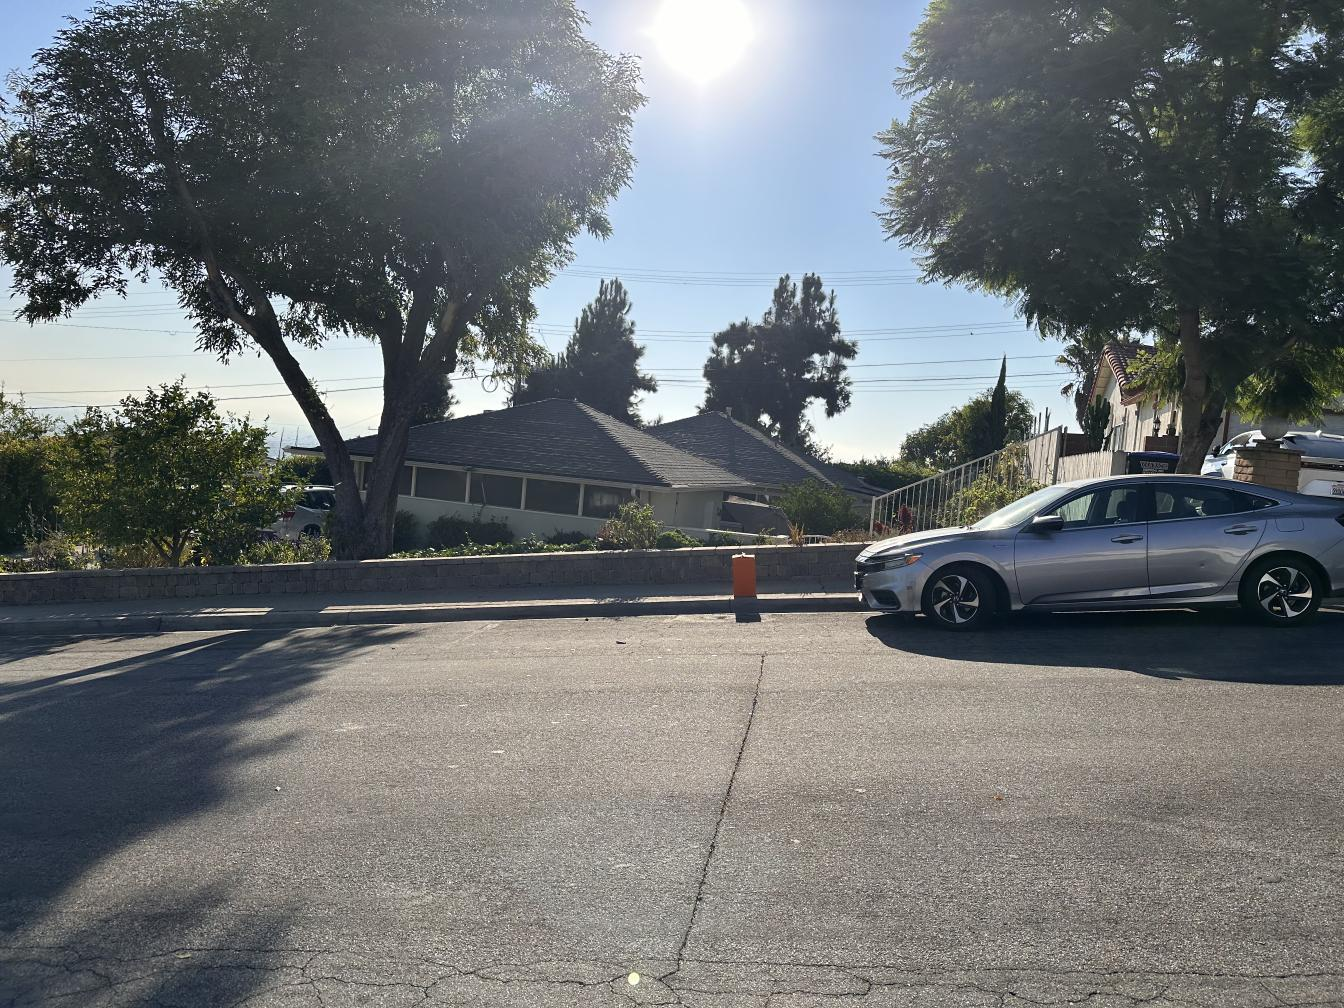curbs-laRr: (538, 597, 841, 618), (0, 615, 272, 632), (272, 610, 537, 625)
orange box: (731, 555, 757, 597)
